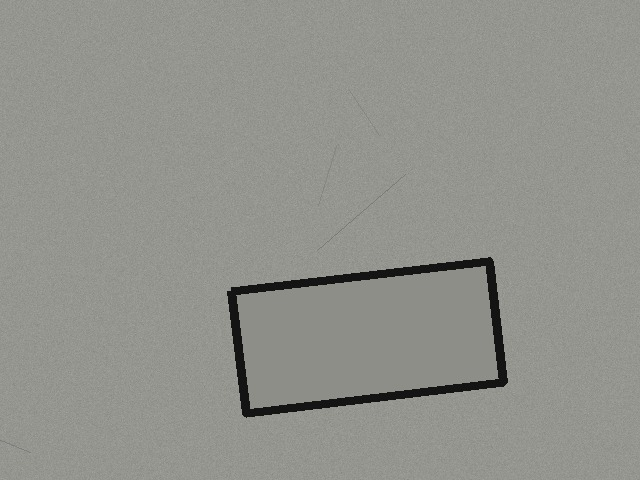parking_area: (231, 261, 503, 413)
